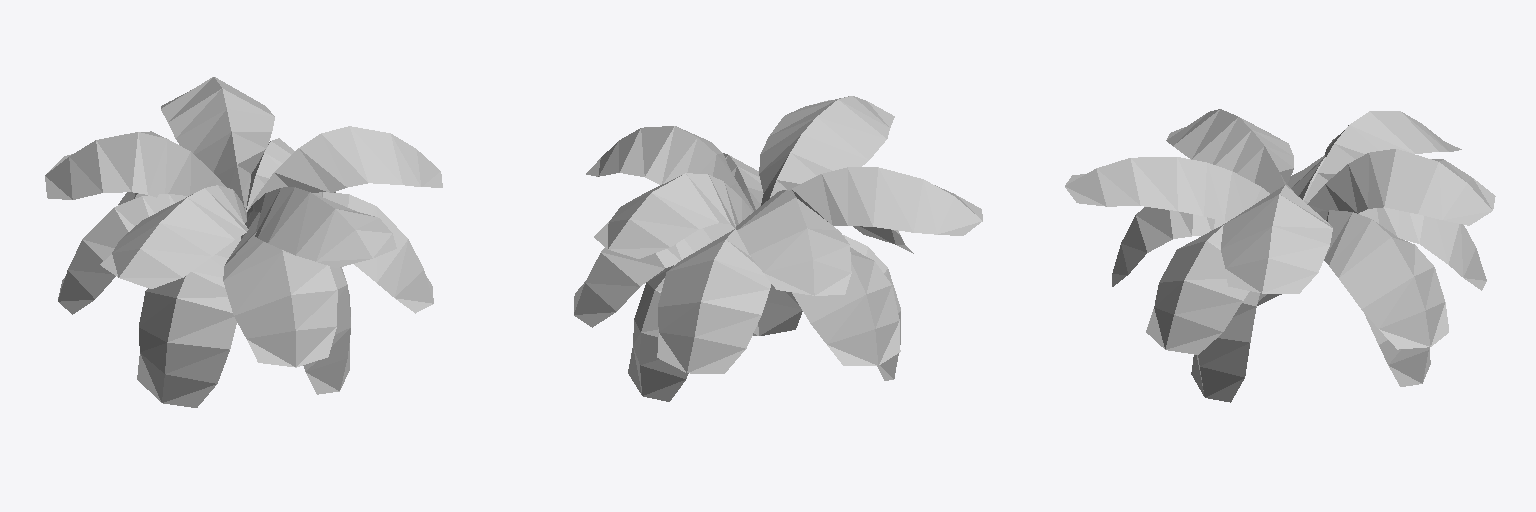
The model's file is Folha3.obj.
3 views of the same model, side by side, from view 1: azimuth 30°, elevation 25°; view 2: azimuth 150°, elevation 25°; view 3: azimuth 270°, elevation 25° (orthographic).
Parts seen in each view (by area): view 1: Leaf_3; view 2: Leaf_3; view 3: Leaf_3.
Part boxes in pixels (x1,y1,x2,y2): Leaf_3: (45,77,442,407); Leaf_3: (574,96,982,401); Leaf_3: (1065,109,1495,402).
Size of the model in its own units: 1.1 by 0.7141 by 1.17.